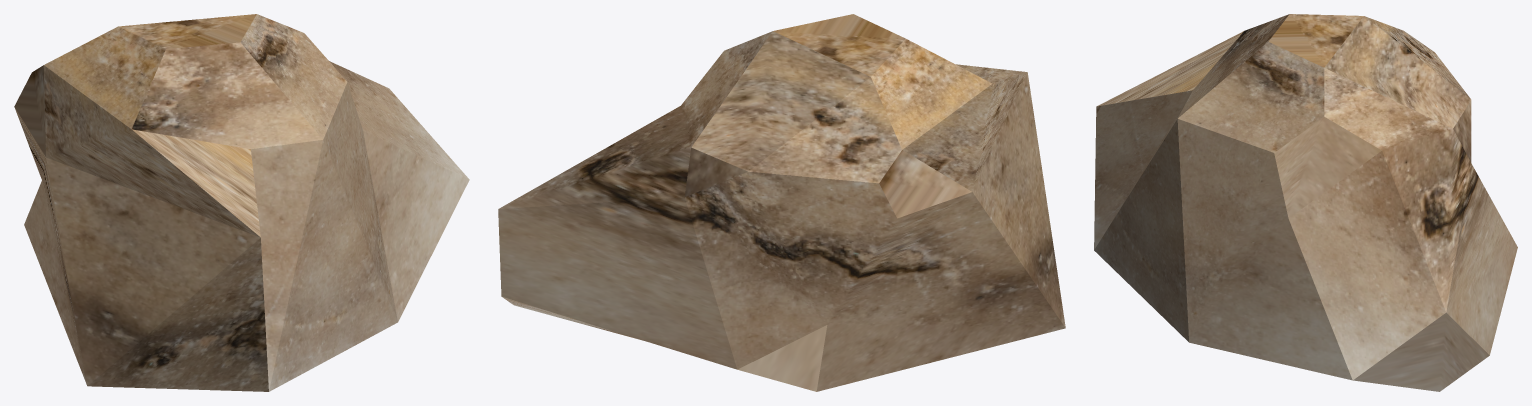
File: rock.fbx
3 views of the same model, side by side, from view 1: azimuth 30°, elevation 25°; view 2: azimuth 150°, elevation 25°; view 3: azimuth 270°, elevation 25° (orthographic). The views are drawn at different scales.
Parts seen in each view (by area): view 1: Icosphere; view 2: Icosphere; view 3: Icosphere.
Part boxes in pixels (bbox=[...]): Icosphere: bbox=[14, 14, 469, 391]; Icosphere: bbox=[498, 14, 1065, 391]; Icosphere: bbox=[1094, 14, 1517, 391].
Bounding box in the file's own units: 251 × 153 × 223.
